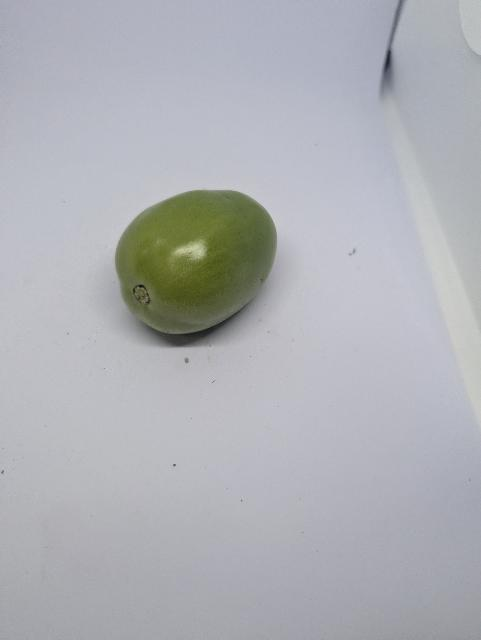green: (110, 173, 303, 351)
